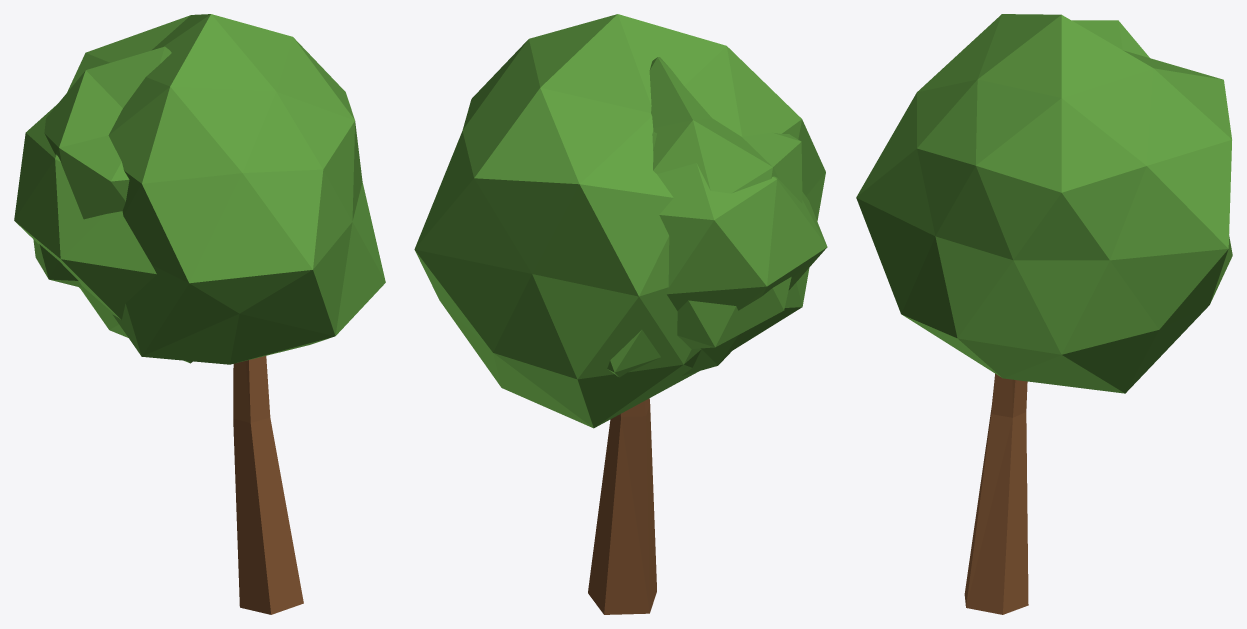
File: HS_LP_Sapling_Oak_02.fbx
The picture shows the model from 3 angles, left to right: view 1: azimuth 30°, elevation 25°; view 2: azimuth 150°, elevation 25°; view 3: azimuth 270°, elevation 25°; orthographic projection. The views are drawn at different scales.
Visible parts, largest first — view 1: HS_LP_Sapling_Oak_02; view 2: HS_LP_Sapling_Oak_02; view 3: HS_LP_Sapling_Oak_02.
Part boxes in pixels (x1,y1,x2,y2): HS_LP_Sapling_Oak_02: (14, 14, 385, 614); HS_LP_Sapling_Oak_02: (414, 14, 827, 614); HS_LP_Sapling_Oak_02: (856, 14, 1232, 614).
Size of the model in its own units: 60.36 by 107 by 63.17.
